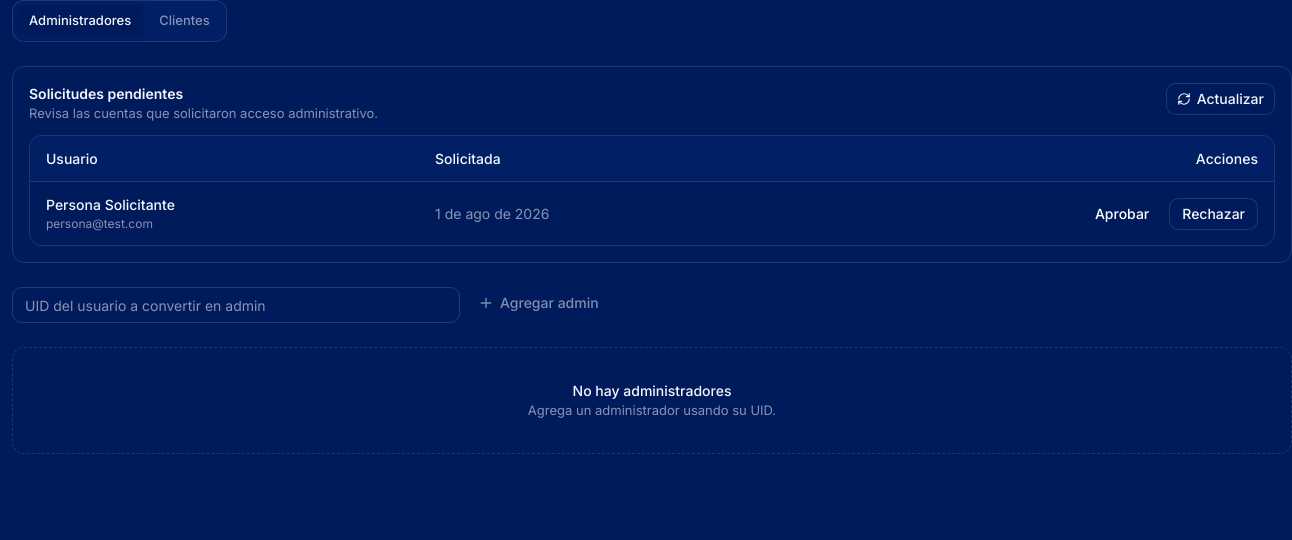
Test: AdminUsuarios - solicitudes pendientes › aprueba una solicitud, envia el UID y recarga la lista
Click the button "Aprobar".
click(1122, 214)  # box [1083, 198, 1161, 230]
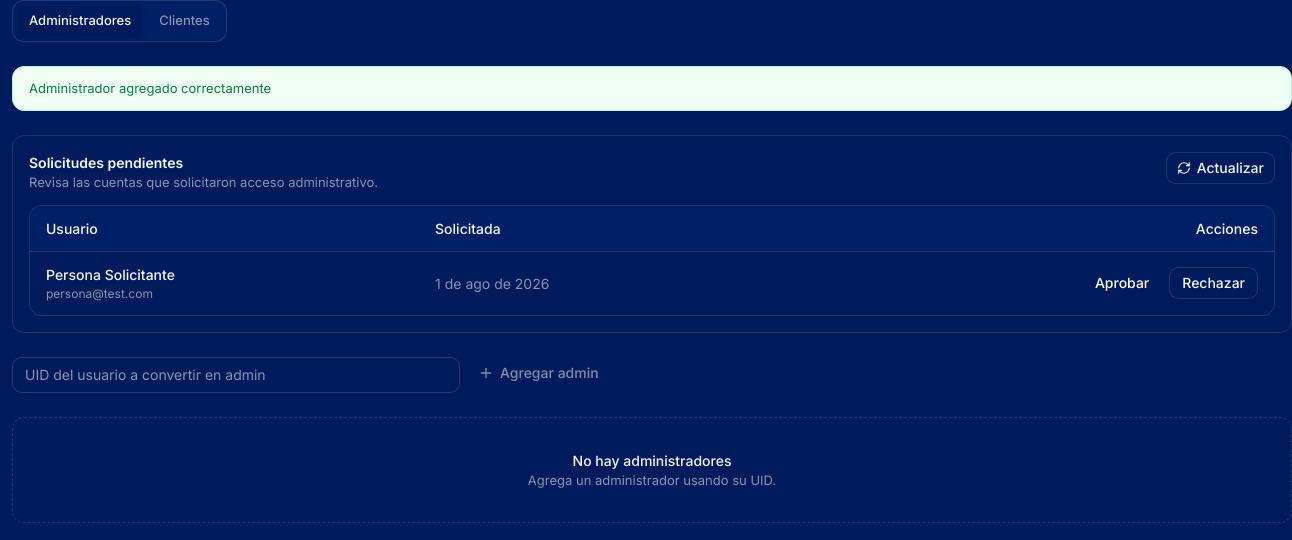
Expected: the text "Administrador agregado correctamente" is shown, [12, 66, 1291, 111]
